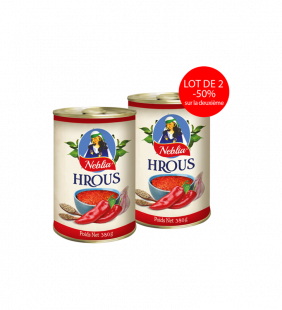NEBLIA: (52, 66, 230, 244)
